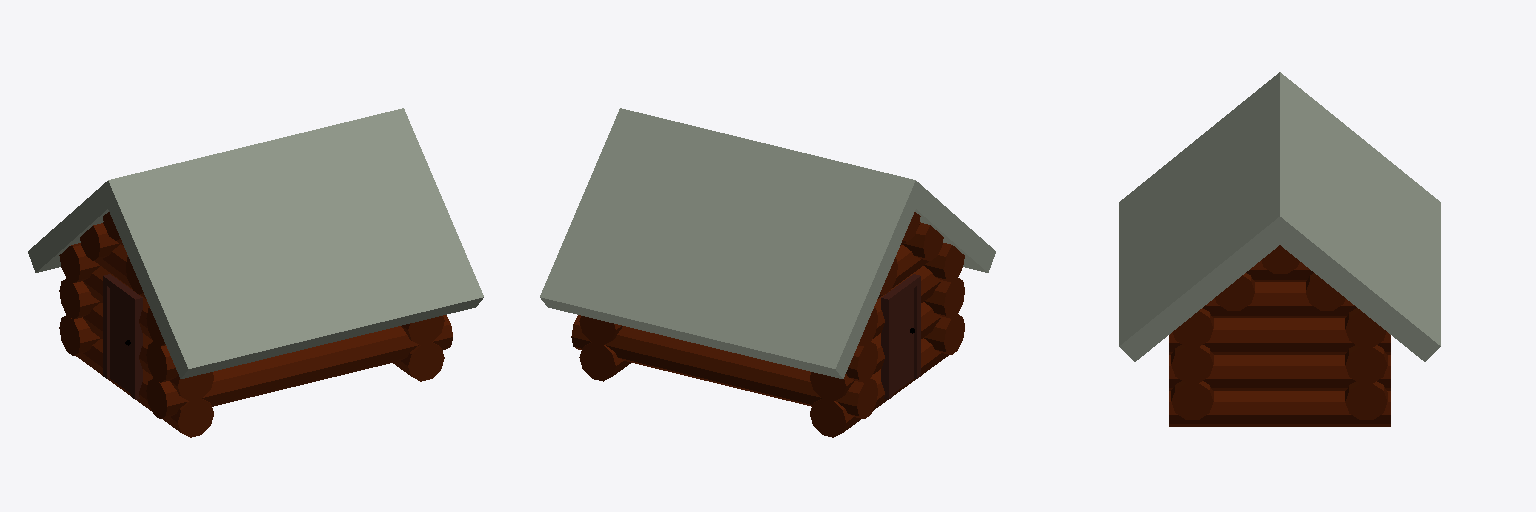
File: chalet.obj
3 renders of one model, left to right at view 1: azimuth 30°, elevation 25°; view 2: azimuth 150°, elevation 25°; view 3: azimuth 270°, elevation 25°, orthographic.
Parts seen in each view (by area): view 1: Cube.001, Cylindre.005, Cube.003, Cylindre.017, Cylindre.018, Cylindre.010, Cylindre, Cylindre.001, Cylindre.002, Cylindre.006, Cylindre.004, Cylindre.009 (+2 smaller); view 2: Cube.001, Cylindre, Cube.003, Cylindre.017, Cylindre.018, Cylindre.010, Cylindre.005, Cylindre.004, Cylindre.003, Cylindre.007, Cylindre.001, Cylindre.009 (+2 smaller); view 3: Cube.001, Cylindre.010, Cylindre.011, Cylindre.009, Cylindre.012, Cylindre.005, Cylindre.001, Cylindre, Cylindre.004, Cylindre.002, Cylindre.003, Cylindre.007 (+3 smaller).
Part boxes in pixels (left/top/right/bottom): Cube.001: left=28, top=108, right=483, bottom=378; Cylindre.005: left=146, top=315, right=452, bottom=418; Cube.003: left=103, top=274, right=142, bottom=399; Cylindre.017: left=76, top=339, right=213, bottom=437; Cylindre.018: left=83, top=303, right=213, bottom=401; Cylindre.010: left=393, top=342, right=444, bottom=381; Cylindre: left=59, top=315, right=100, bottom=355; Cylindre.001: left=59, top=278, right=100, bottom=319; Cylindre.002: left=59, top=243, right=99, bottom=282; Cylindre.006: left=80, top=223, right=119, bottom=260; Cylindre.004: left=146, top=342, right=177, bottom=382; Cylindre.009: left=401, top=316, right=444, bottom=344; Cube.001: left=540, top=108, right=995, bottom=378; Cylindre: left=571, top=315, right=877, bottom=418; Cube.003: left=881, top=274, right=920, bottom=399; Cylindre.017: left=810, top=338, right=948, bottom=437; Cylindre.018: left=810, top=302, right=941, bottom=400; Cylindre.010: left=579, top=342, right=630, bottom=381; Cylindre.005: left=924, top=314, right=964, bottom=354; Cylindre.004: left=924, top=278, right=964, bottom=318; Cylindre.003: left=924, top=243, right=964, bottom=281; Cylindre.007: left=903, top=223, right=943, bottom=260; Cylindre.001: left=846, top=342, right=877, bottom=382; Cylindre.009: left=579, top=316, right=622, bottom=344; Cube.001: left=1119, top=72, right=1440, bottom=361; Cylindre.010: left=1169, top=391, right=1390, bottom=426; Cylindre.011: left=1169, top=318, right=1390, bottom=354; Cylindre.009: left=1169, top=355, right=1390, bottom=390; Cylindre.012: left=1203, top=282, right=1356, bottom=317; Cylindre.005: left=1171, top=381, right=1213, bottom=419; Cylindre.001: left=1345, top=345, right=1387, bottom=383; Cylindre: left=1345, top=381, right=1387, bottom=419; Cylindre.004: left=1171, top=345, right=1213, bottom=382; Cylindre.002: left=1345, top=308, right=1386, bottom=347; Cylindre.003: left=1173, top=308, right=1213, bottom=346; Cylindre.007: left=1215, top=273, right=1254, bottom=310.
Size of the model in its own units: 6.6 by 4.77 by 6.22.